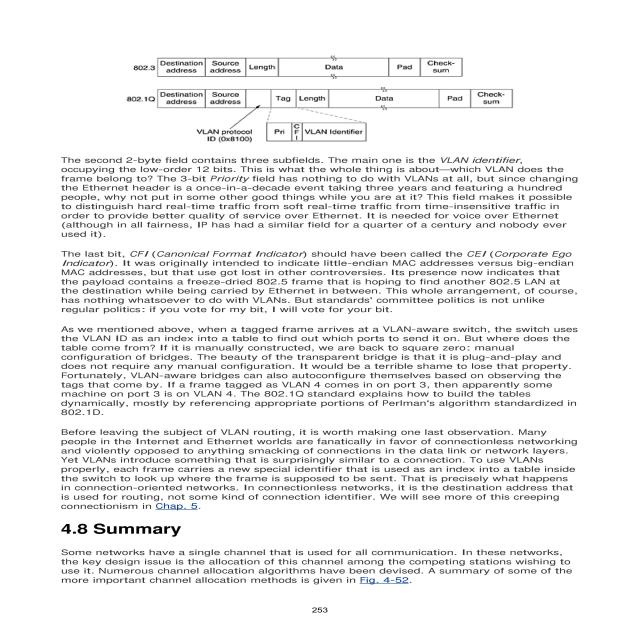diagram: (80, 19, 592, 144)
